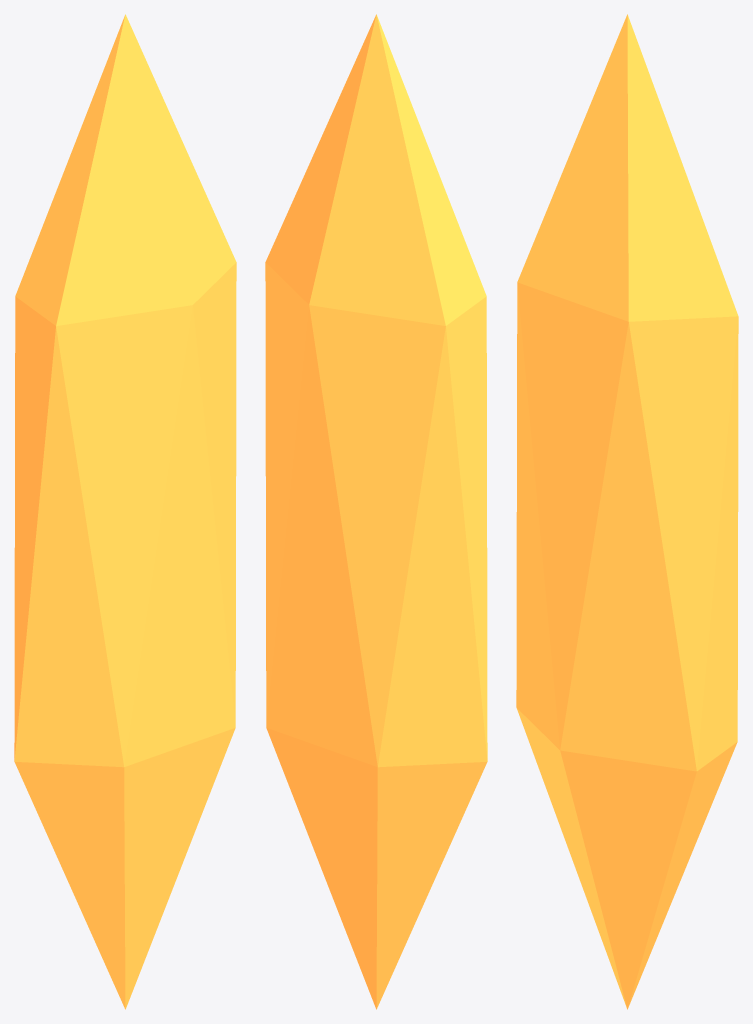
File: fire_fragment_a.glb
The picture shows the model from 3 angles, left to right: view 1: azimuth 30°, elevation 25°; view 2: azimuth 150°, elevation 25°; view 3: azimuth 330°, elevation 25°; orthographic projection.
Parts seen in each view (by area): view 1: fire_fragment_a; view 2: fire_fragment_a; view 3: fire_fragment_a.
Boxes of the visible parts, <box> form: fire_fragment_a: <box>14,14,236,1009</box>; fire_fragment_a: <box>265,14,487,1009</box>; fire_fragment_a: <box>516,14,738,1009</box>.
Size of the model in its own units: 0.2147 by 0.92 by 0.1106.
